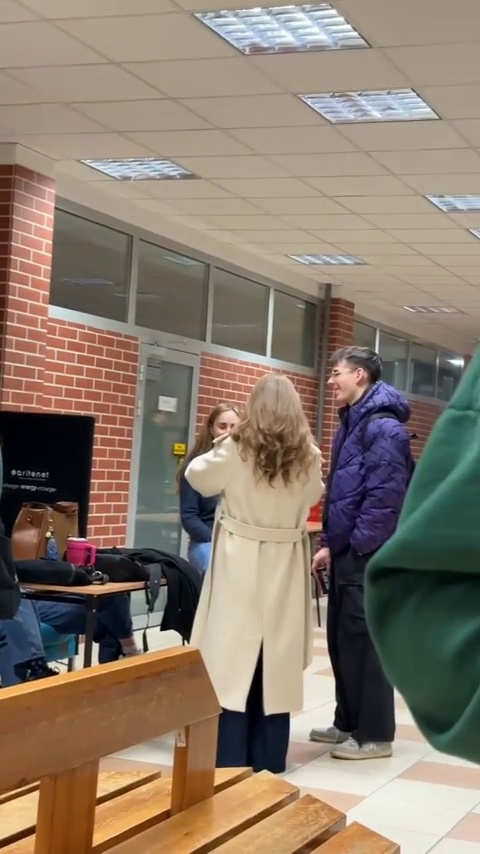no vest: (197, 370, 313, 733), (319, 341, 420, 730)
